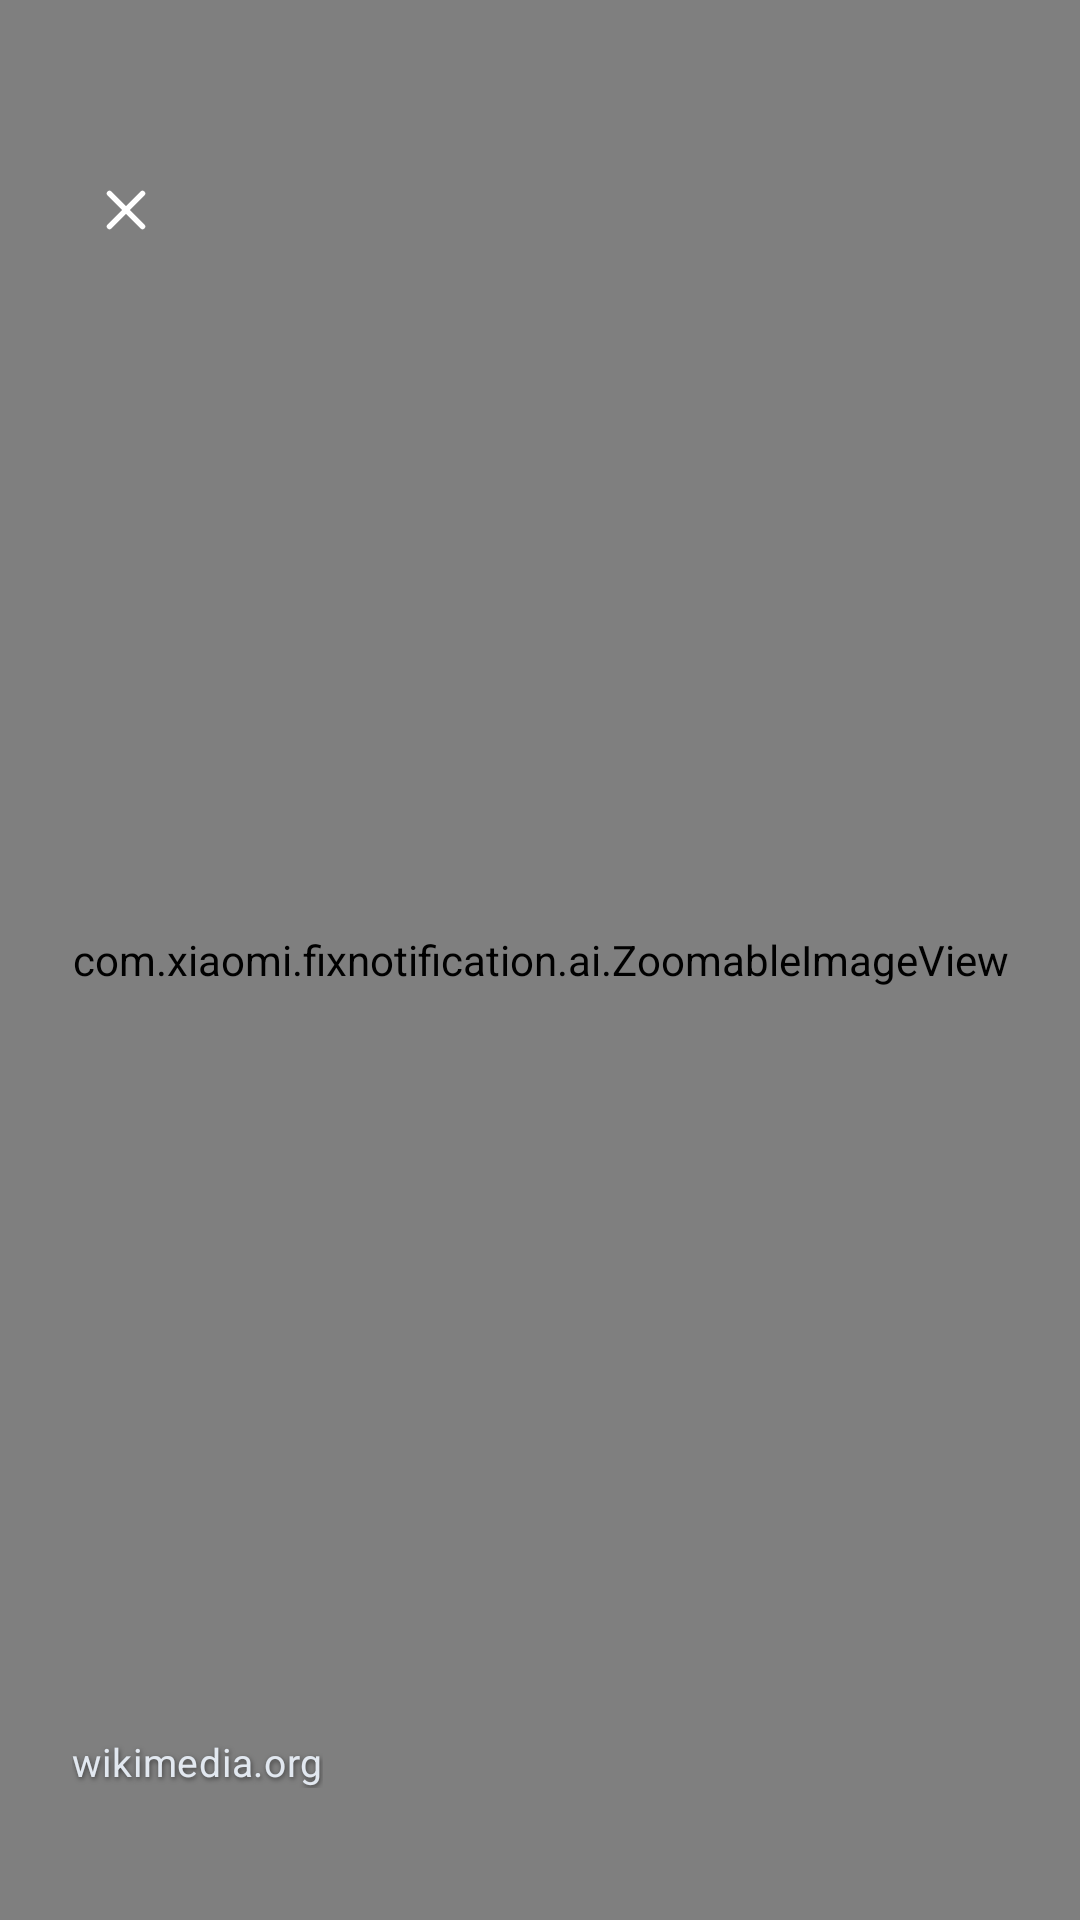

Where to tap for icons on this 1080w x 1920h app screen, as (x,y):
close: (126,210)
